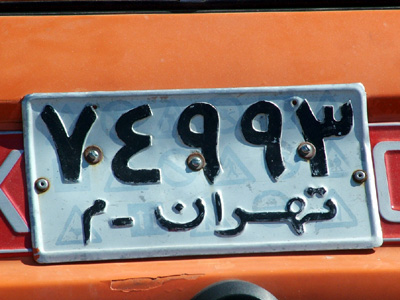license plate: (20, 92, 383, 251)
